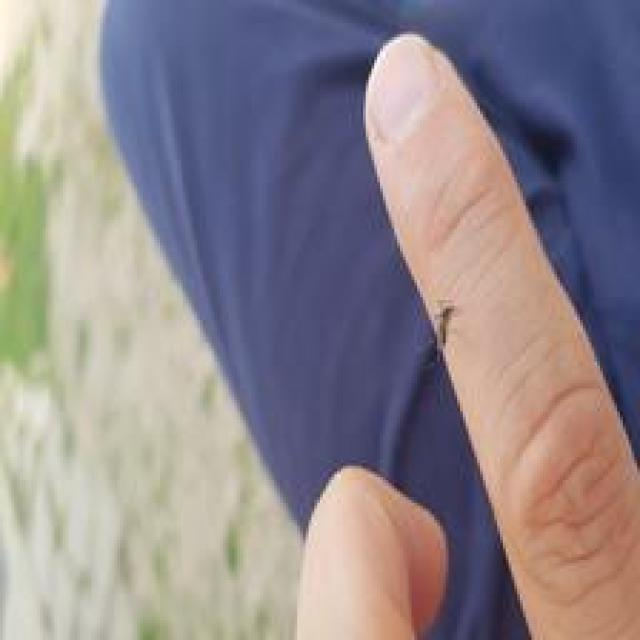Aedes albopictus: (94, 0, 640, 640)
